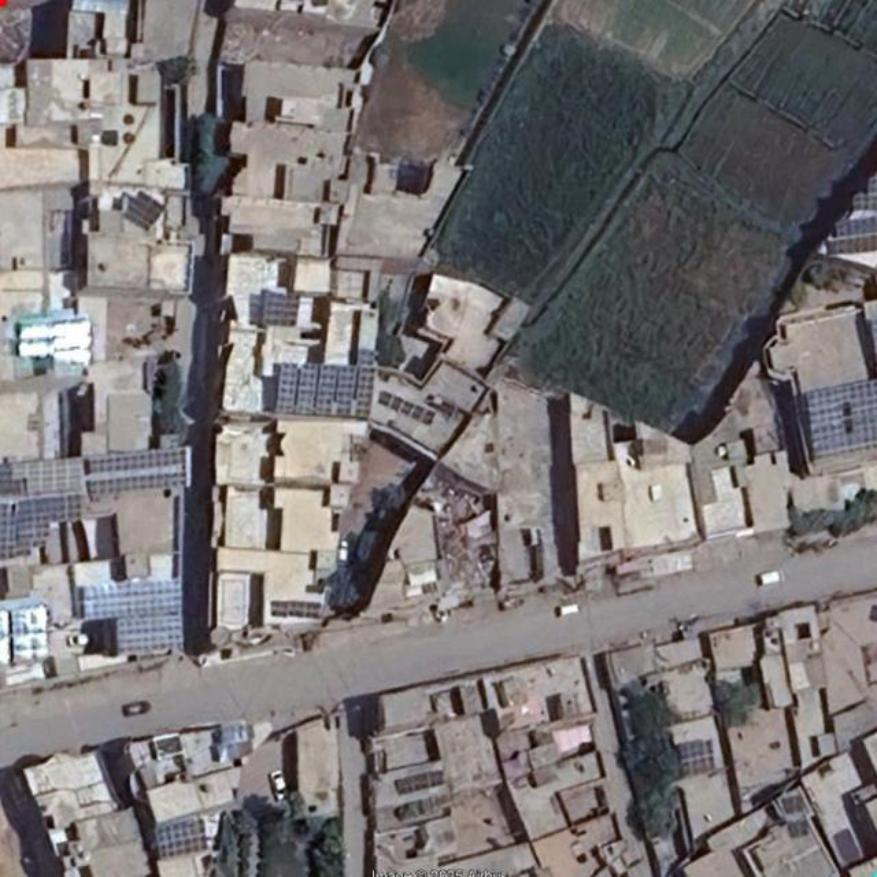Solarpanel: (807, 377, 876, 458), (0, 496, 83, 560), (276, 363, 374, 416), (87, 445, 187, 496), (84, 579, 180, 617), (115, 614, 184, 653), (156, 817, 206, 858), (123, 192, 163, 228), (678, 741, 715, 779), (261, 292, 300, 324), (394, 769, 445, 793), (828, 236, 876, 254), (271, 600, 321, 617), (837, 214, 876, 235)
